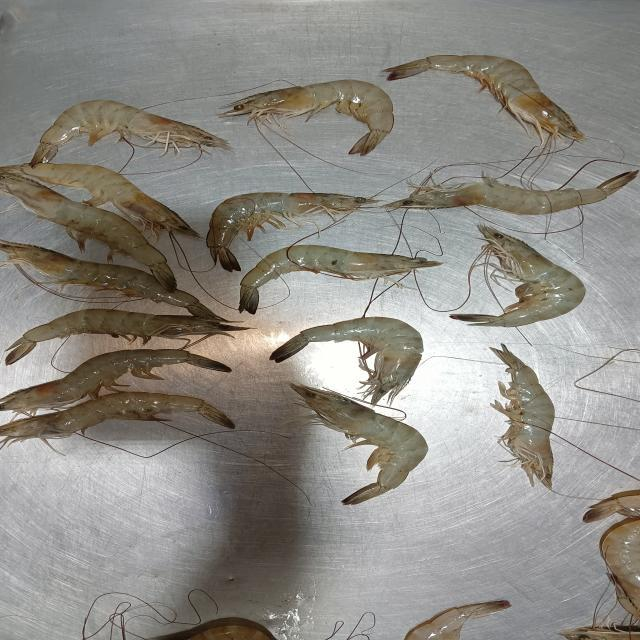shrimp: (0, 172, 177, 291), (386, 55, 584, 139), (291, 383, 426, 503), (0, 349, 231, 413), (7, 164, 198, 237), (240, 244, 440, 312), (453, 225, 585, 326), (270, 317, 422, 403), (208, 192, 375, 270), (30, 100, 227, 165), (4, 309, 240, 363), (226, 80, 393, 155), (2, 392, 231, 443), (2, 242, 193, 303), (381, 171, 638, 214), (492, 345, 555, 487), (405, 601, 510, 639), (601, 520, 639, 619), (151, 624, 272, 639), (584, 491, 639, 521), (561, 627, 639, 639)
